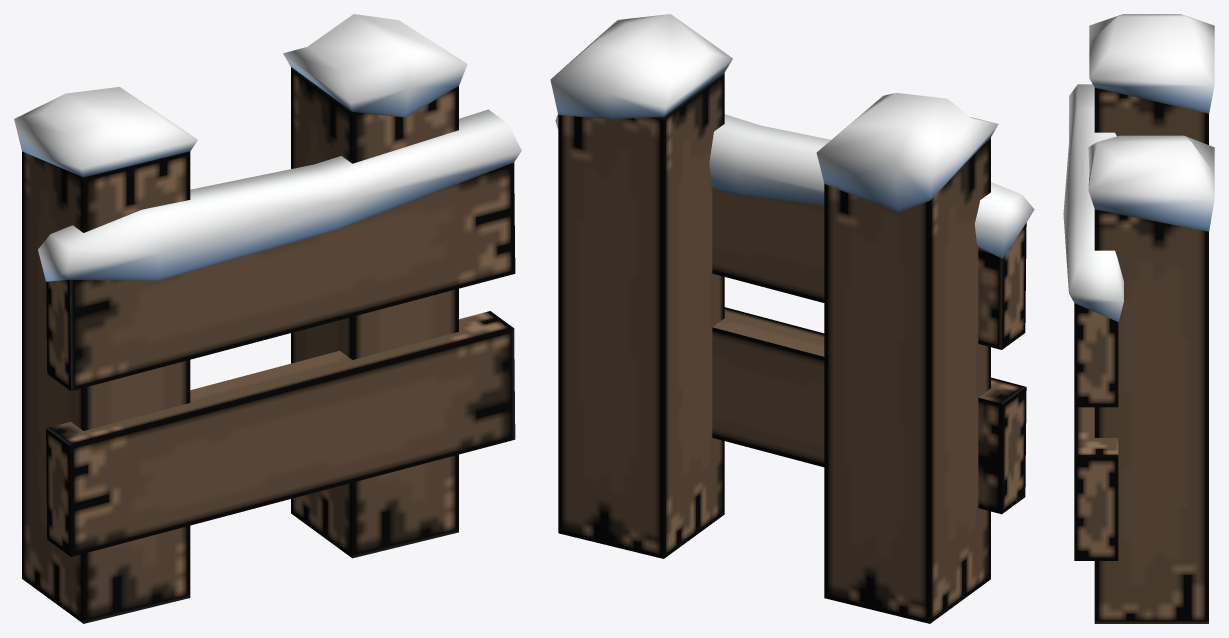
File: deco_winter_fenceSnow.FBX
3 views of the same model, side by side, from view 1: azimuth 30°, elevation 25°; view 2: azimuth 150°, elevation 25°; view 3: azimuth 270°, elevation 25° (orthographic). The views are drawn at different scales.
Parts seen in each view (by area): view 1: deco_winter_fenceSnow; view 2: deco_winter_fenceSnow; view 3: deco_winter_fenceSnow.
Boxes of the visible parts, x1,y1,x2,y2 form: deco_winter_fenceSnow: (14,14,521,623); deco_winter_fenceSnow: (550,14,1034,623); deco_winter_fenceSnow: (1063,14,1214,623).
Bounding box in the file's own units: 2.13 × 2.21 × 0.6607.
1 material, 1 textured.
